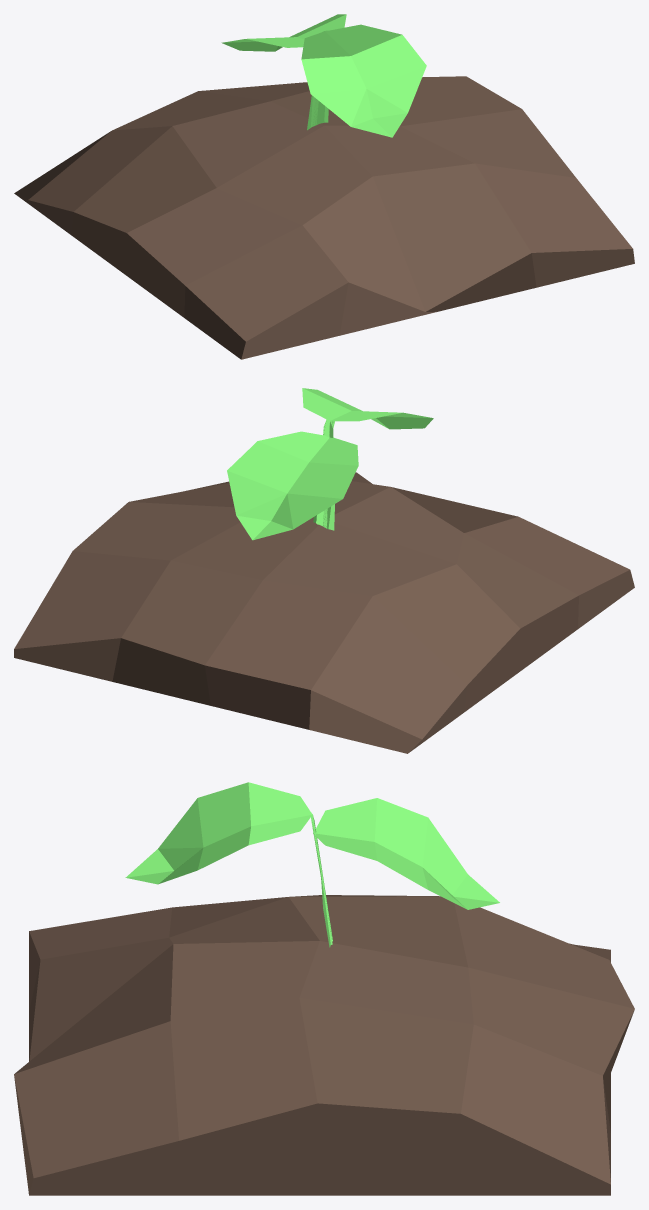
File: 3dplant0.glb
3 views of the same model, one above another, from view 1: azimuth 30°, elevation 25°; view 2: azimuth 150°, elevation 25°; view 3: azimuth 270°, elevation 25° (orthographic). The views are drawn at different scales.
Parts seen in each view (by area): view 1: Cube, Leaf1, Leaf1.002; view 2: Cube, Leaf1.002, Leaf1; view 3: Cube, Leaf1, Leaf1.002.
Part boxes in pixels (left/top/right/bottom): Cube: left=14, top=76, right=634, bottom=359; Leaf1: left=301, top=24, right=426, bottom=137; Leaf1.002: left=221, top=14, right=346, bottom=51; Cube: left=14, top=472, right=634, bottom=753; Leaf1.002: left=227, top=431, right=358, bottom=540; Leaf1: left=302, top=388, right=433, bottom=530; Cube: left=14, top=895, right=634, bottom=1195; Leaf1: left=125, top=782, right=332, bottom=947; Leaf1.002: left=313, top=798, right=499, bottom=909.
Size of the model in its own units: 1.95 by 0.9576 by 2.08.
